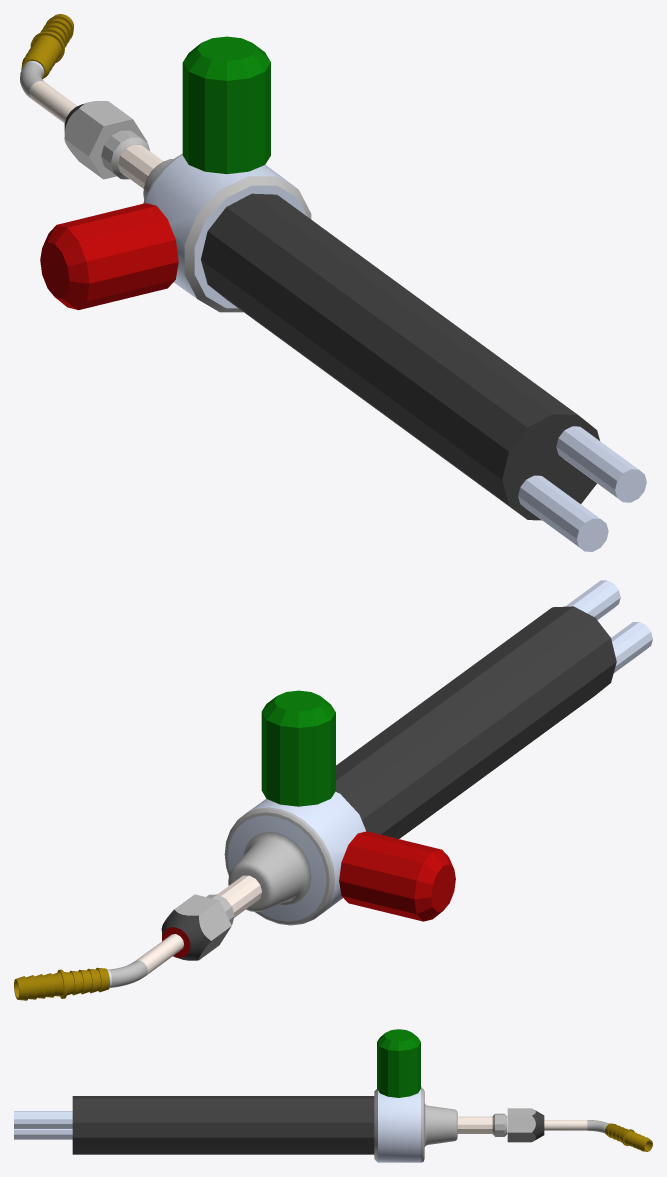
Rendered from torch.FBX.
The picture shows the model from 3 angles, top to bottom: view 1: azimuth 30°, elevation 25°; view 2: azimuth 150°, elevation 25°; view 3: azimuth 270°, elevation 25°; orthographic projection. The views are drawn at different scales.
Visible parts, largest first — view 1: VIFS346, Object001, Object002, VIFS347, VIFS348; view 2: VIFS346, Object001, Object002, VIFS347, VIFS348; view 3: VIFS346, Object001, VIFS347, VIFS348.
Boxes of the visible parts, x1=… form: VIFS346: x1=101, y1=130, x2=646, y2=551; Object001: x1=182, y1=36, x2=270, y2=174; Object002: x1=40, y1=203, x2=178, y2=310; VIFS347: x1=20, y1=61, x2=147, y2=179; VIFS348: x1=21, y1=14, x2=73, y2=79; VIFS346: x1=206, y1=580, x2=652, y2=925; Object001: x1=261, y1=690, x2=335, y2=806; Object002: x1=339, y1=831, x2=455, y2=921; VIFS347: x1=107, y1=894, x2=231, y2=987; VIFS348: x1=14, y1=967, x2=109, y2=1000; VIFS346: x1=14, y1=1088, x2=507, y2=1162; Object001: x1=377, y1=1029, x2=420, y2=1097; VIFS347: x1=507, y1=1108, x2=608, y2=1142; VIFS348: x1=604, y1=1123, x2=652, y2=1151.
Bounding box in the file's own units: 0.0559 × 0.0501 × 0.2343.
